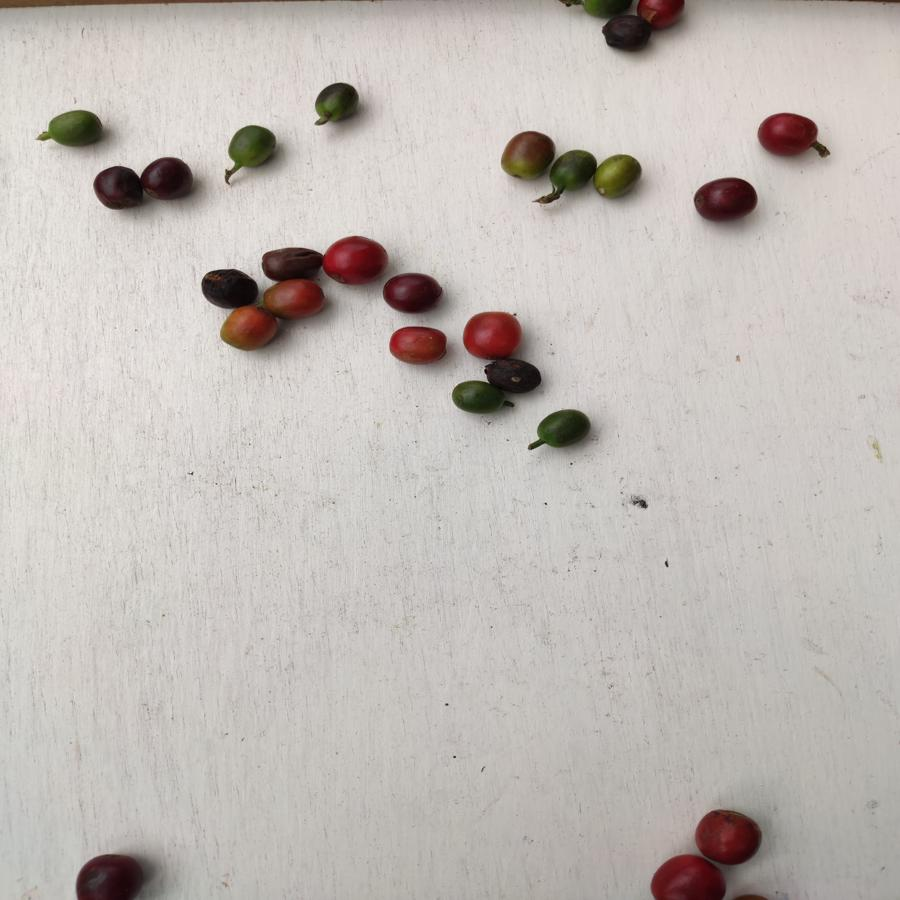Inmaduro: (532, 404, 593, 449), (549, 148, 595, 198), (51, 108, 108, 147), (315, 80, 362, 125), (229, 126, 277, 167), (454, 380, 507, 417)
Maduro: (694, 801, 765, 871), (648, 852, 731, 900), (756, 107, 819, 159), (325, 237, 387, 288), (465, 306, 523, 359), (388, 325, 448, 367), (638, 1, 682, 29)
Pinton: (501, 127, 557, 189), (224, 306, 276, 356), (267, 280, 326, 319), (594, 153, 643, 198)
Sobremaduro: (70, 851, 154, 900), (690, 174, 763, 224), (137, 154, 199, 207), (195, 265, 258, 308), (600, 14, 655, 62), (383, 273, 444, 313), (480, 355, 544, 392), (94, 166, 142, 213), (261, 246, 324, 277)
